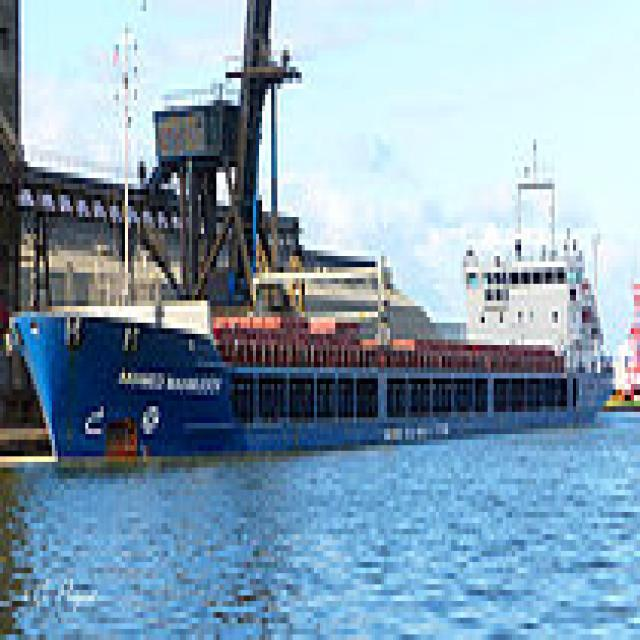Ship: (7, 207, 626, 486)
